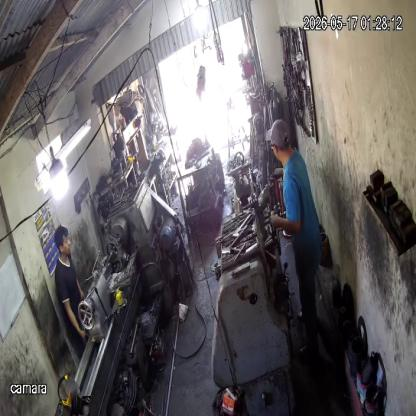lentes: (269, 142, 278, 152)
